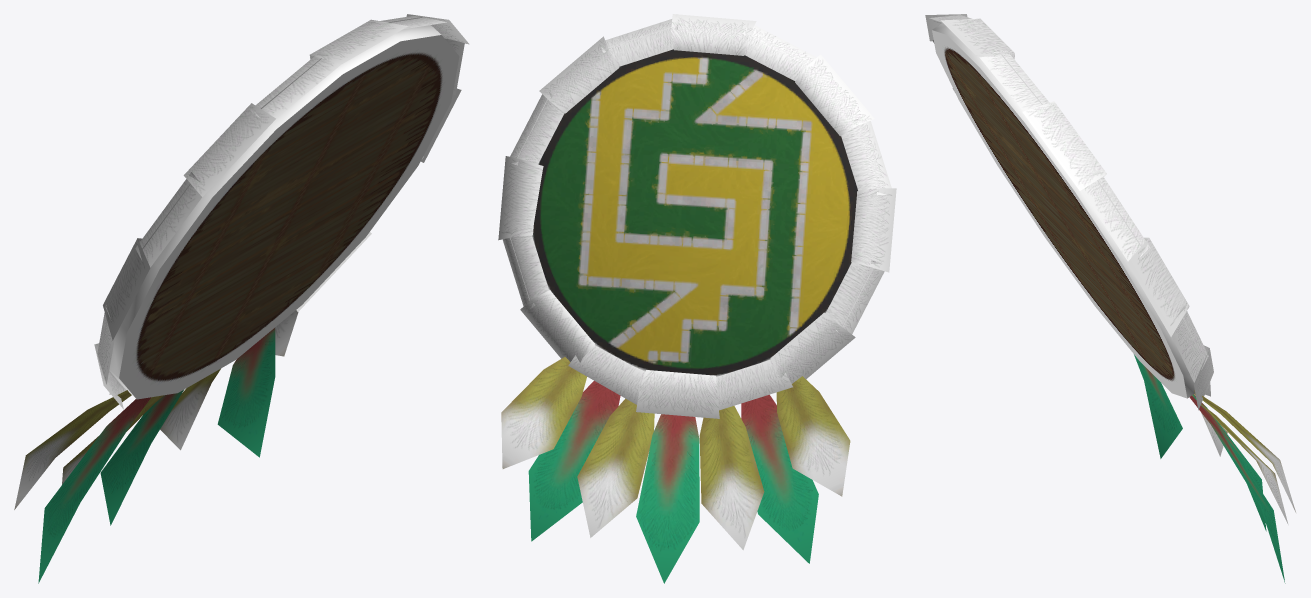
File: shield-sacredshields.glb
3 renders of one model, left to right at view 1: azimuth 30°, elevation 25°; view 2: azimuth 150°, elevation 25°; view 3: azimuth 270°, elevation 25°, orthographic. The views are drawn at different scales.
Bounding box in the file's own units: 0.5759 × 0.7261 × 0.4526.
Materials: 1 (1 with a texture image).
